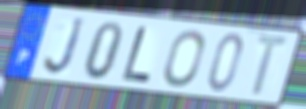0: (206, 31, 245, 94), (83, 21, 122, 81)
J: (42, 16, 88, 78)
L: (119, 24, 154, 85)
O: (162, 28, 206, 89)
T: (249, 32, 293, 99)
